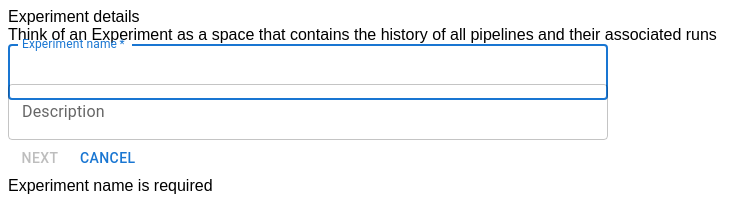
NewExperiment › re-disables the 'Next' button when an experiment name is cleared after having been entered
In the field labelled "Experiment name *": (308, 72) x1=8 y1=44 x2=608 y2=100, type "new-experiment-name"
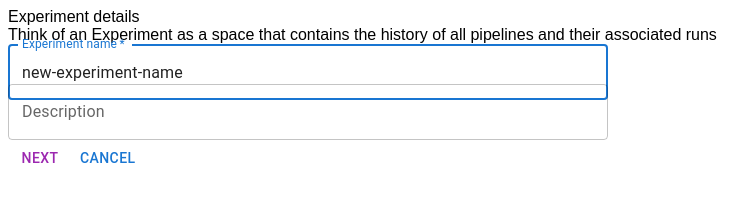
Result: the button "Next" is enabled at x1=8 y1=140 x2=72 y2=176
// Remove experiment name
Clear the field labelled "Experiment name *": (308, 72) x1=8 y1=44 x2=608 y2=100
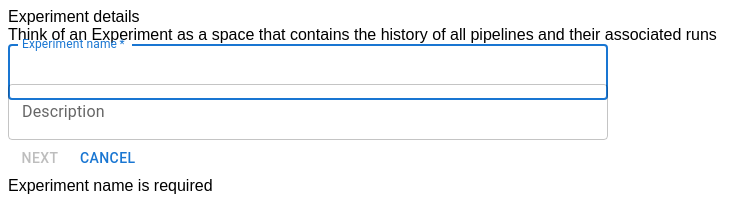
Result: the button "Next" is disabled at x1=8 y1=140 x2=72 y2=176
